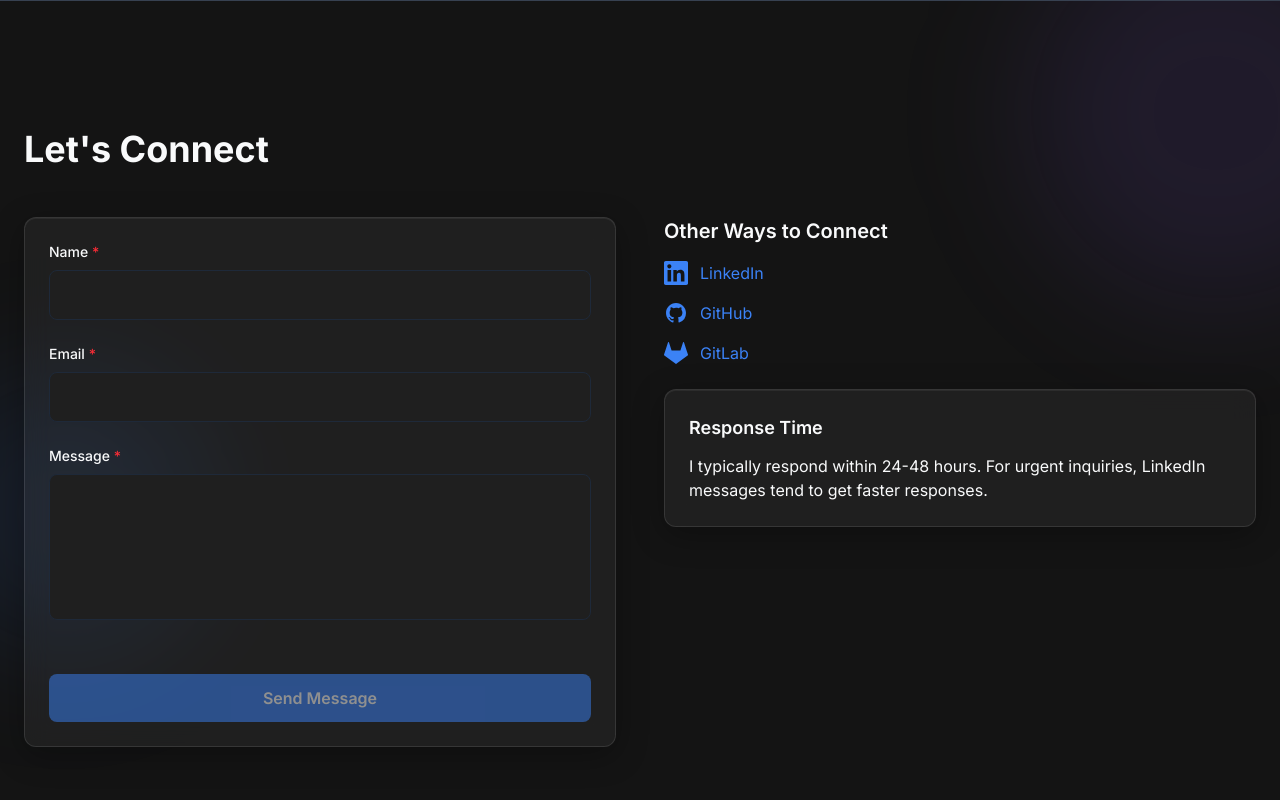
it: Contact › validates email field
Type "invalid-email" into the field labelled "Email *".
click(320, 397); type("invalid-email")  # box [49,372,591,422]
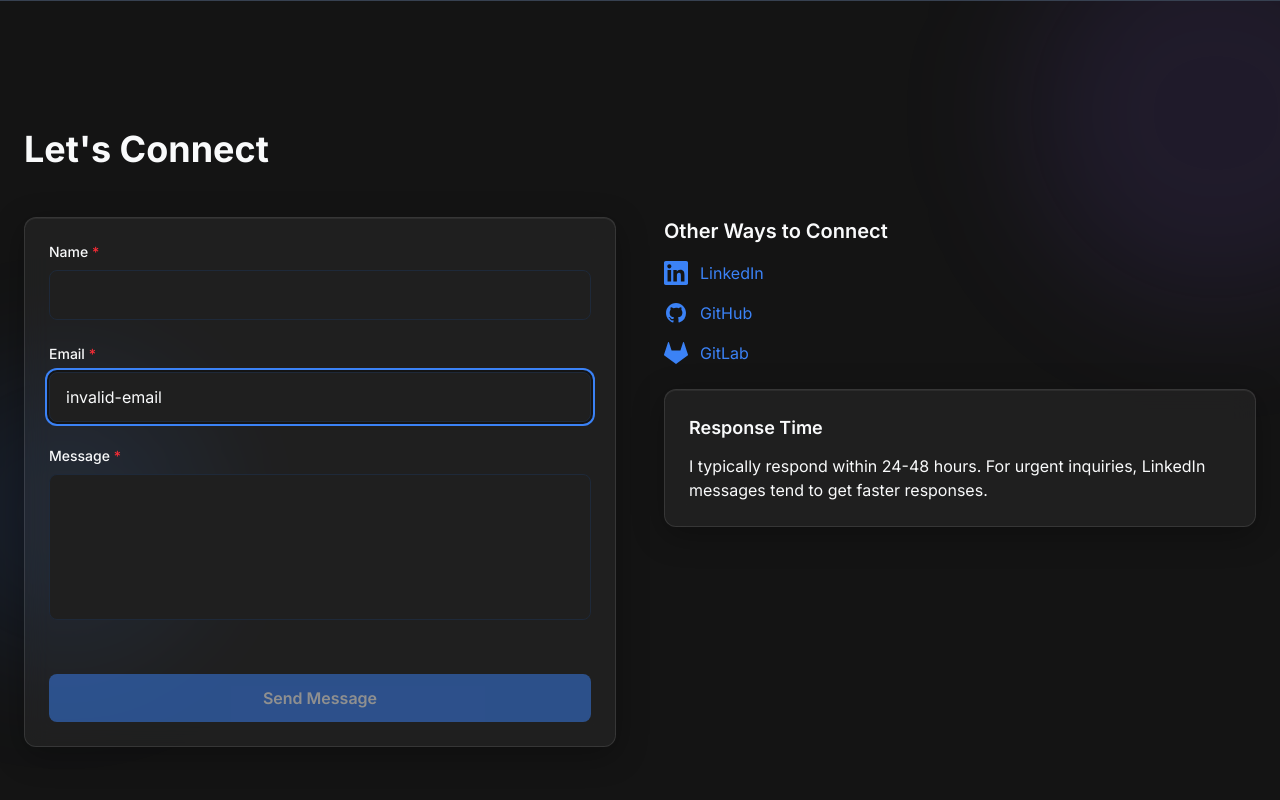
Press Tab
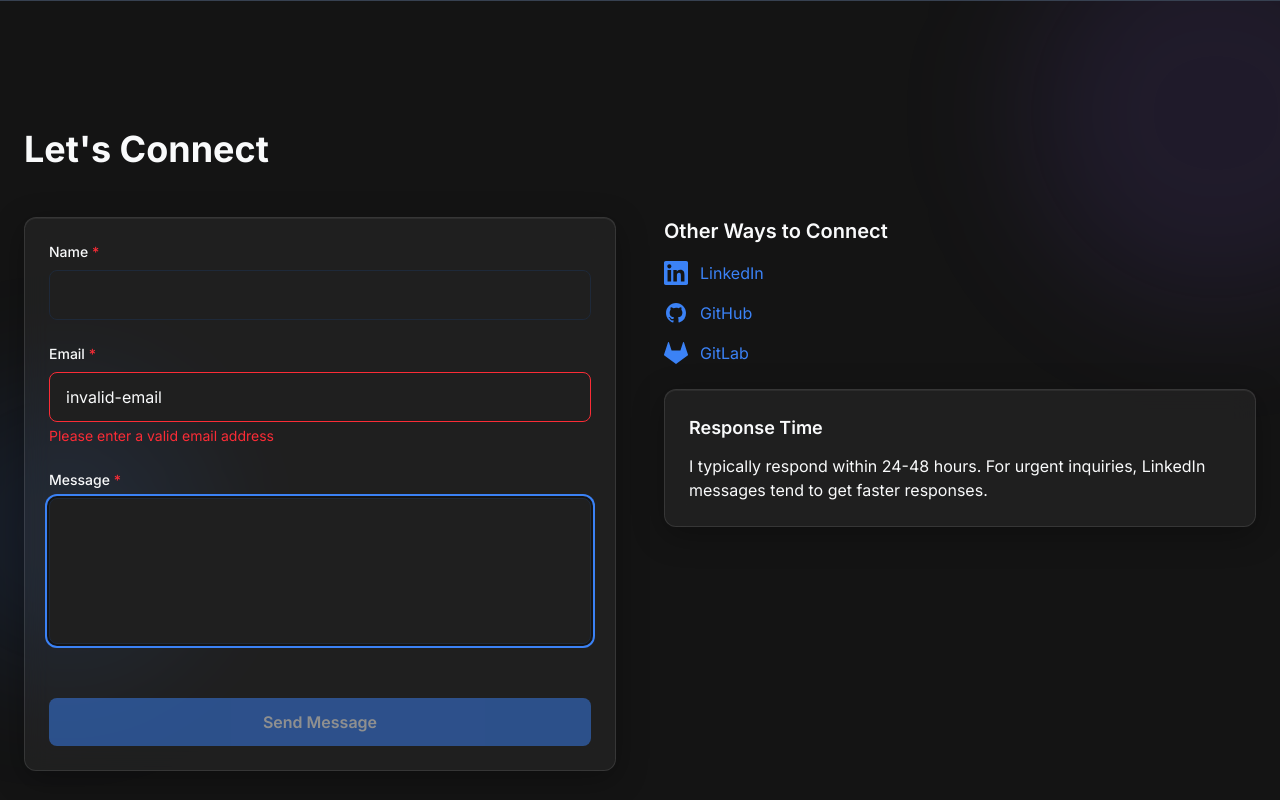
Expected: the text "Please enter a valid email address" is shown, [49,427,274,444]
